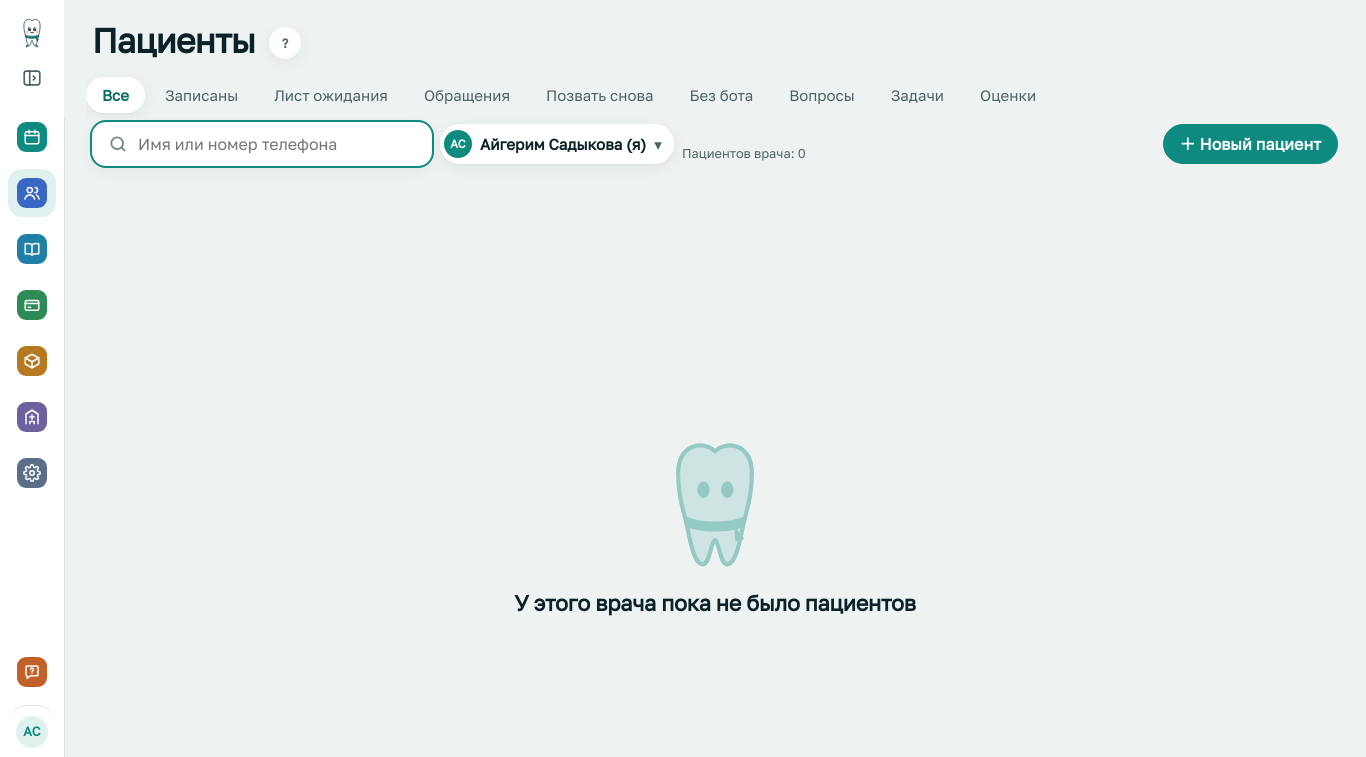
«Позвать снова»: по 50 за раз — «Показать ещё» догружает остальных
Check: the navigation bar named "Разделы" is shown, box [8,113,56,497]
Click the link "Позвать снова": (600, 95) [546,86,653,104]
(page scrolled)
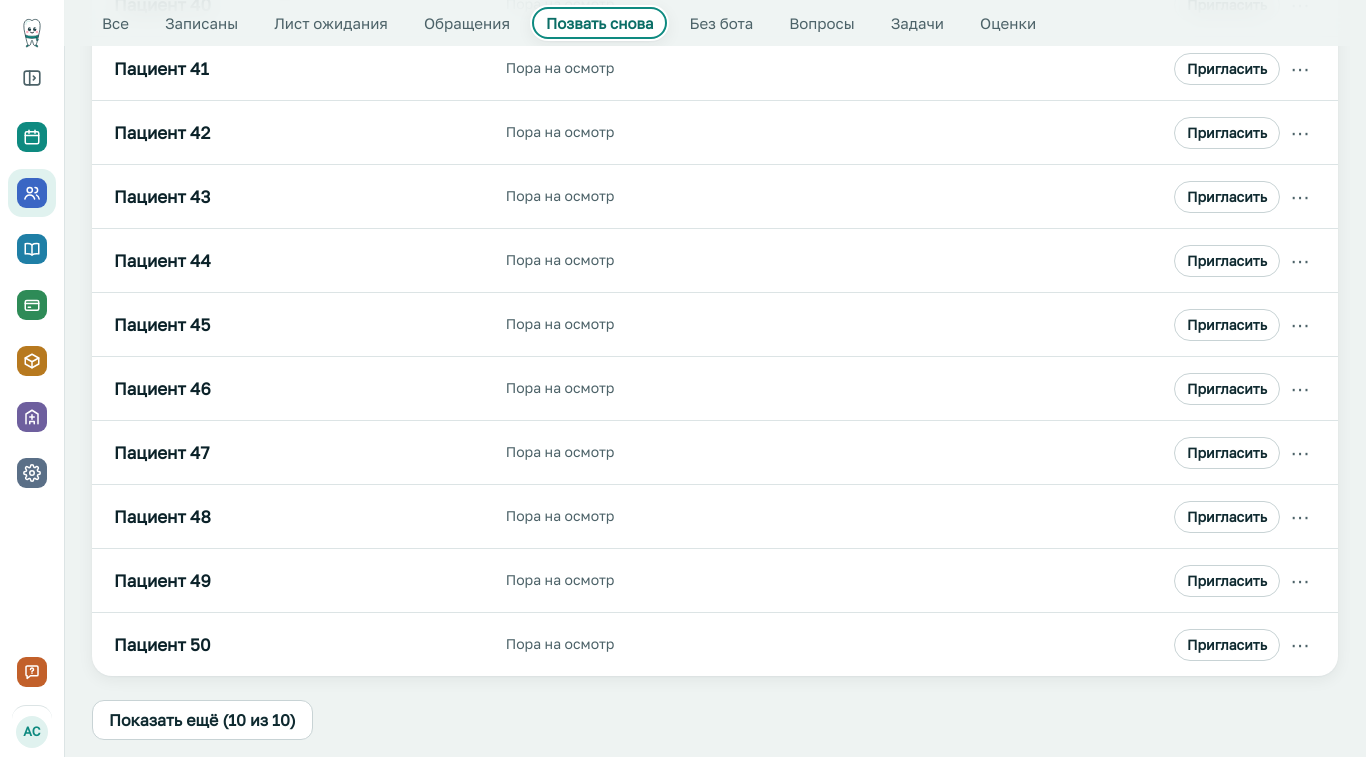
Click the button "Показать ещё (10 из 10)": (202, 720) [92,700,313,740]
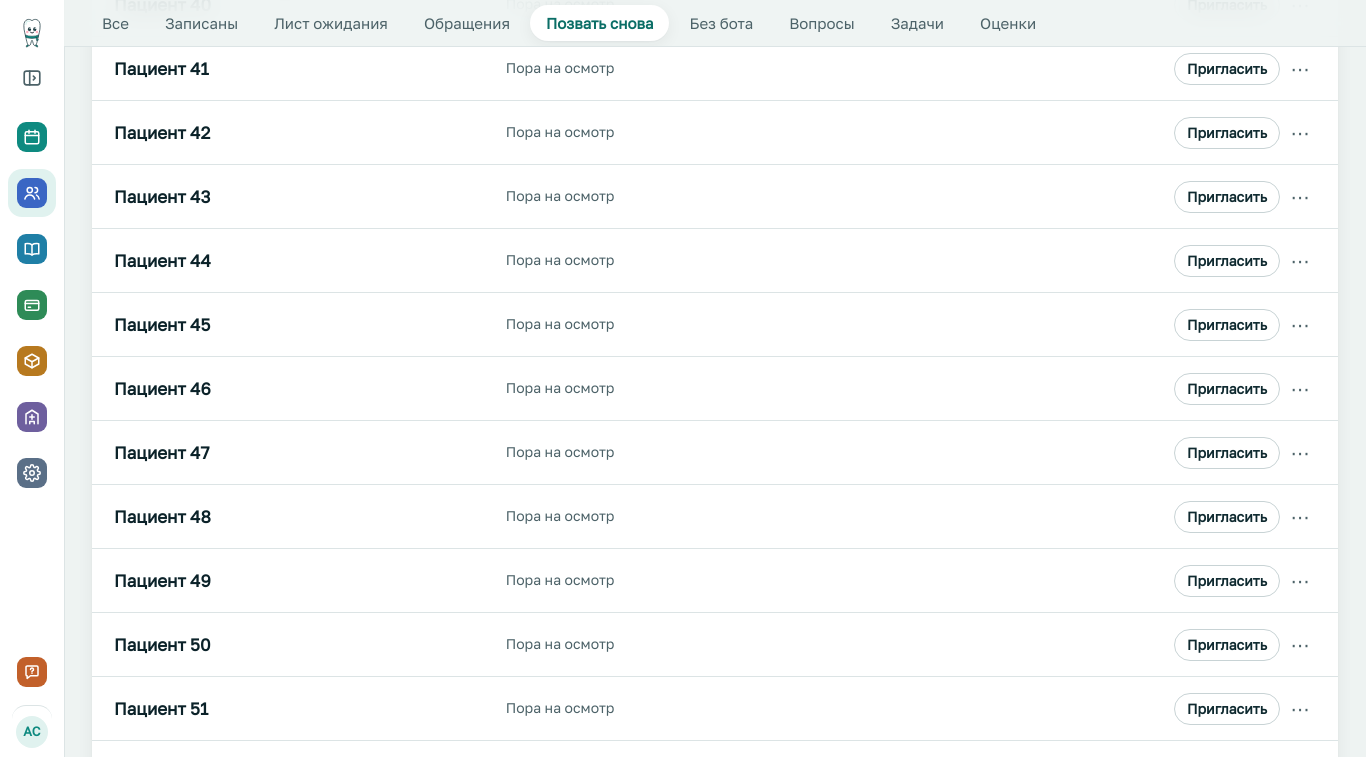
Check: the button "Показать ещё" is gone
